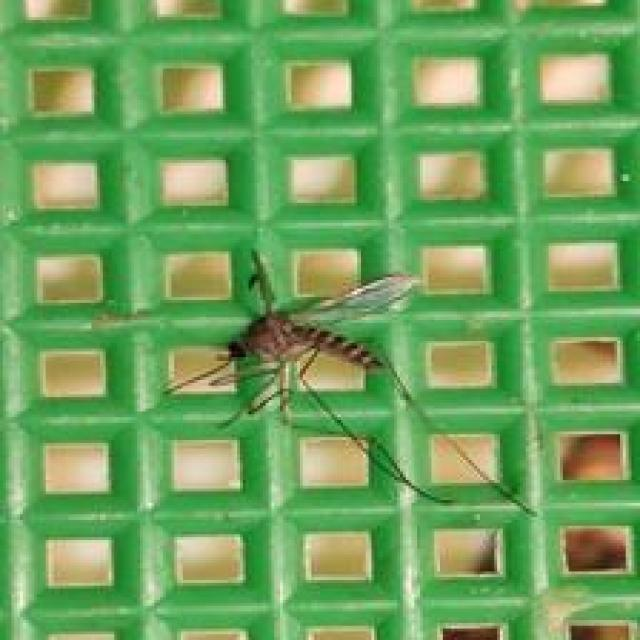Culex: (162, 247, 538, 519)
